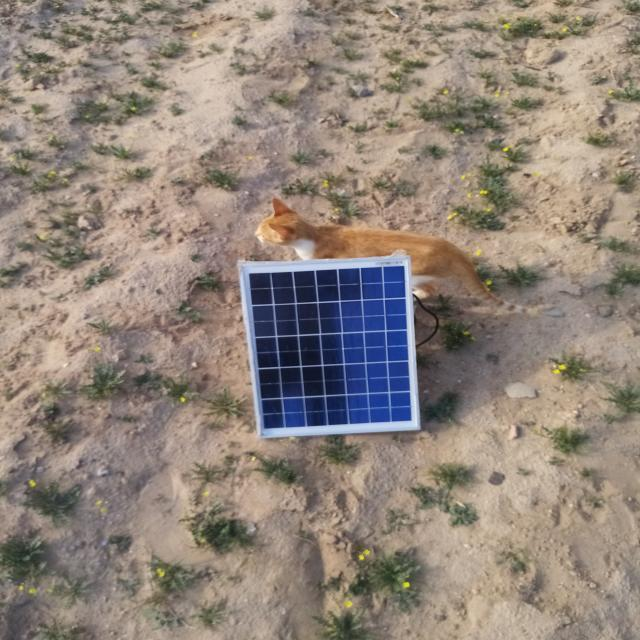Normal Solar Panel: (241, 257, 419, 437)
